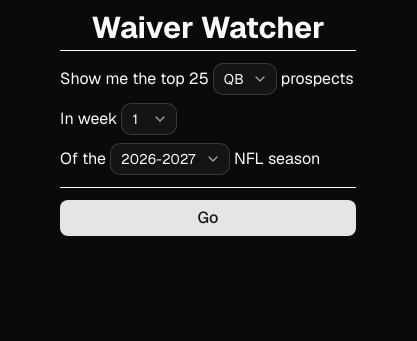
Test: button is clicked, data already in database
The width and height of the screenshot is (417, 341).
Click the button with test id "make-request-button": (208, 218) [60,200,356,236]
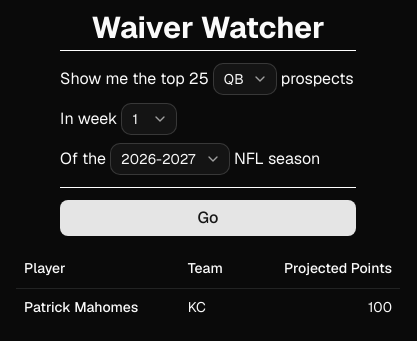
Expected: the text "Patrick Mahomes" is shown, [16,288,180,324]
